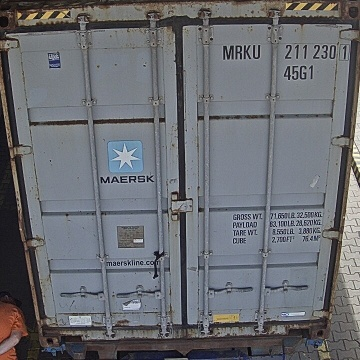serial_id: (223, 44, 349, 59)
